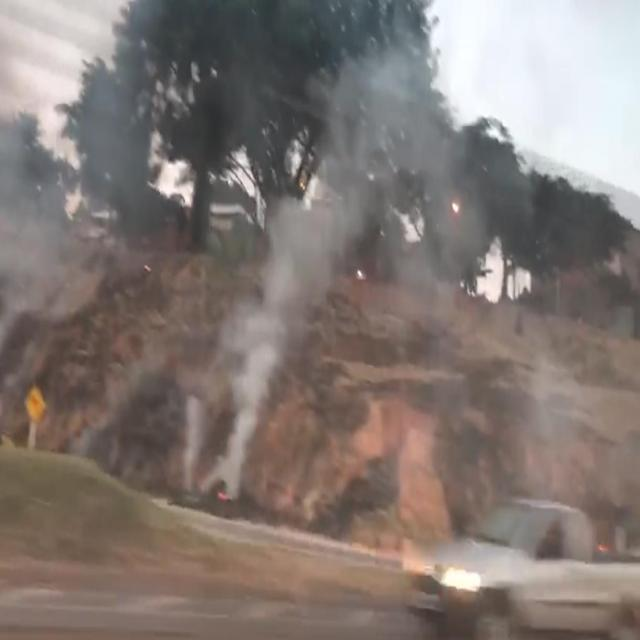Smoke: (220, 49, 506, 508), (0, 60, 114, 395), (527, 336, 592, 498)
